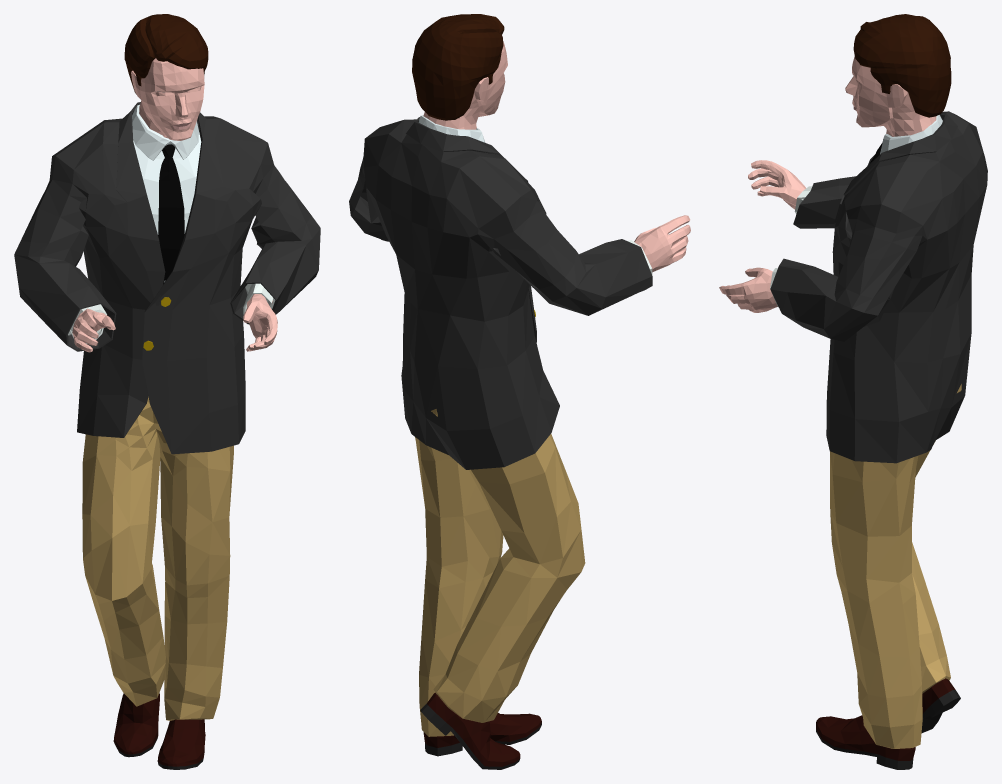
The picture shows the model from 3 angles, left to right: view 1: azimuth 30°, elevation 25°; view 2: azimuth 150°, elevation 25°; view 3: azimuth 270°, elevation 25°; orthographic projection. The views are drawn at different scales.
Parts seen in each view (by area): view 1: Mesh9, Mesh12, Mesh17, Mesh8, Mesh16, Mesh14, Mesh13, Mesh11, Mesh10; view 2: Mesh9, Mesh12, Mesh16, Mesh14, Mesh13, Mesh10, Mesh8; view 3: Mesh9, Mesh12, Mesh16, Mesh8, Mesh13, Mesh10, Mesh11, Mesh14, Mesh17.
Boxes of the visible parts, box(x1,y1,x2,y2) form: Mesh9: box(14, 102, 320, 454); Mesh12: box(82, 396, 233, 720); Mesh17: box(132, 104, 201, 283); Mesh8: box(131, 58, 204, 140); Mesh16: box(124, 14, 208, 94); Mesh14: box(113, 693, 159, 757); Mesh13: box(157, 719, 205, 769); Mesh11: box(243, 294, 277, 351); Mesh10: box(72, 308, 115, 352); Mesh9: box(349, 117, 652, 469); Mesh12: box(415, 409, 585, 736); Mesh16: box(412, 14, 504, 120); Mesh14: box(420, 692, 520, 769); Mesh13: box(423, 713, 541, 756); Mesh10: box(634, 215, 690, 272); Mesh8: box(423, 42, 507, 129); Mesh9: box(770, 111, 987, 463); Mesh12: box(830, 384, 961, 748); Mesh16: box(853, 14, 951, 117); Mesh8: box(845, 56, 936, 136); Mesh13: box(816, 715, 915, 769); Mesh10: box(748, 160, 806, 209); Mesh11: box(719, 267, 777, 312); Mesh14: box(921, 678, 960, 732); Mesh17: box(869, 115, 942, 164).
Bounding box in the file's own units: 30.25 × 73.46 × 24.4.
Materials: 13 (1 with a texture image).
